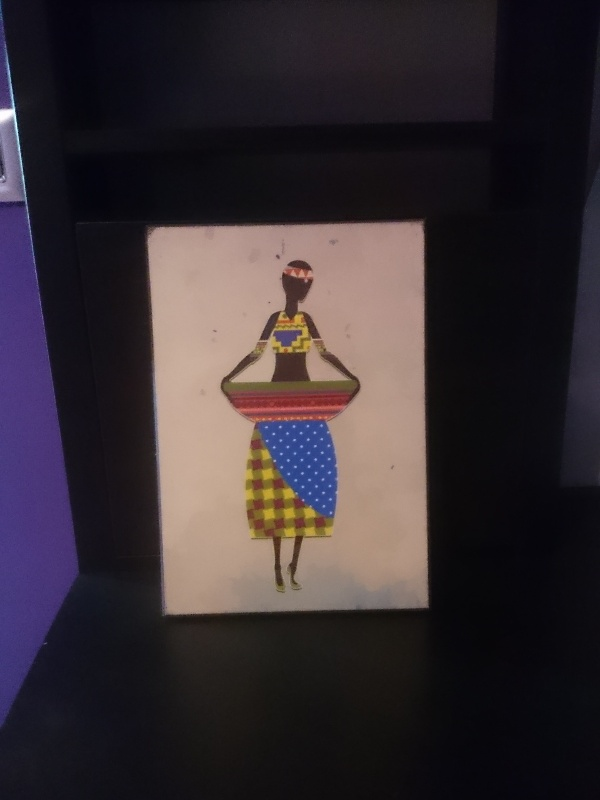my image: (153, 223, 423, 610)
